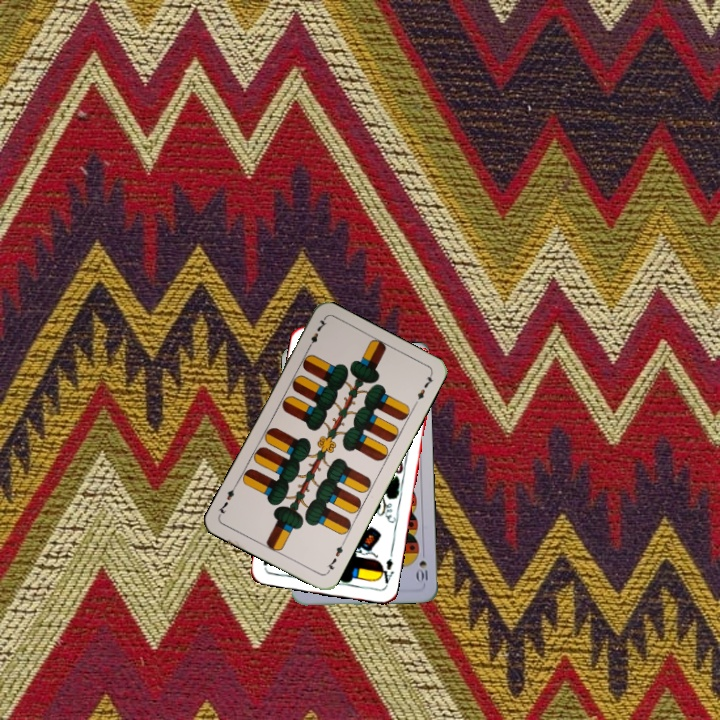E7: (303, 315, 329, 353), (323, 538, 347, 576)
EA: (374, 548, 396, 589)
S10: (413, 546, 431, 586)
